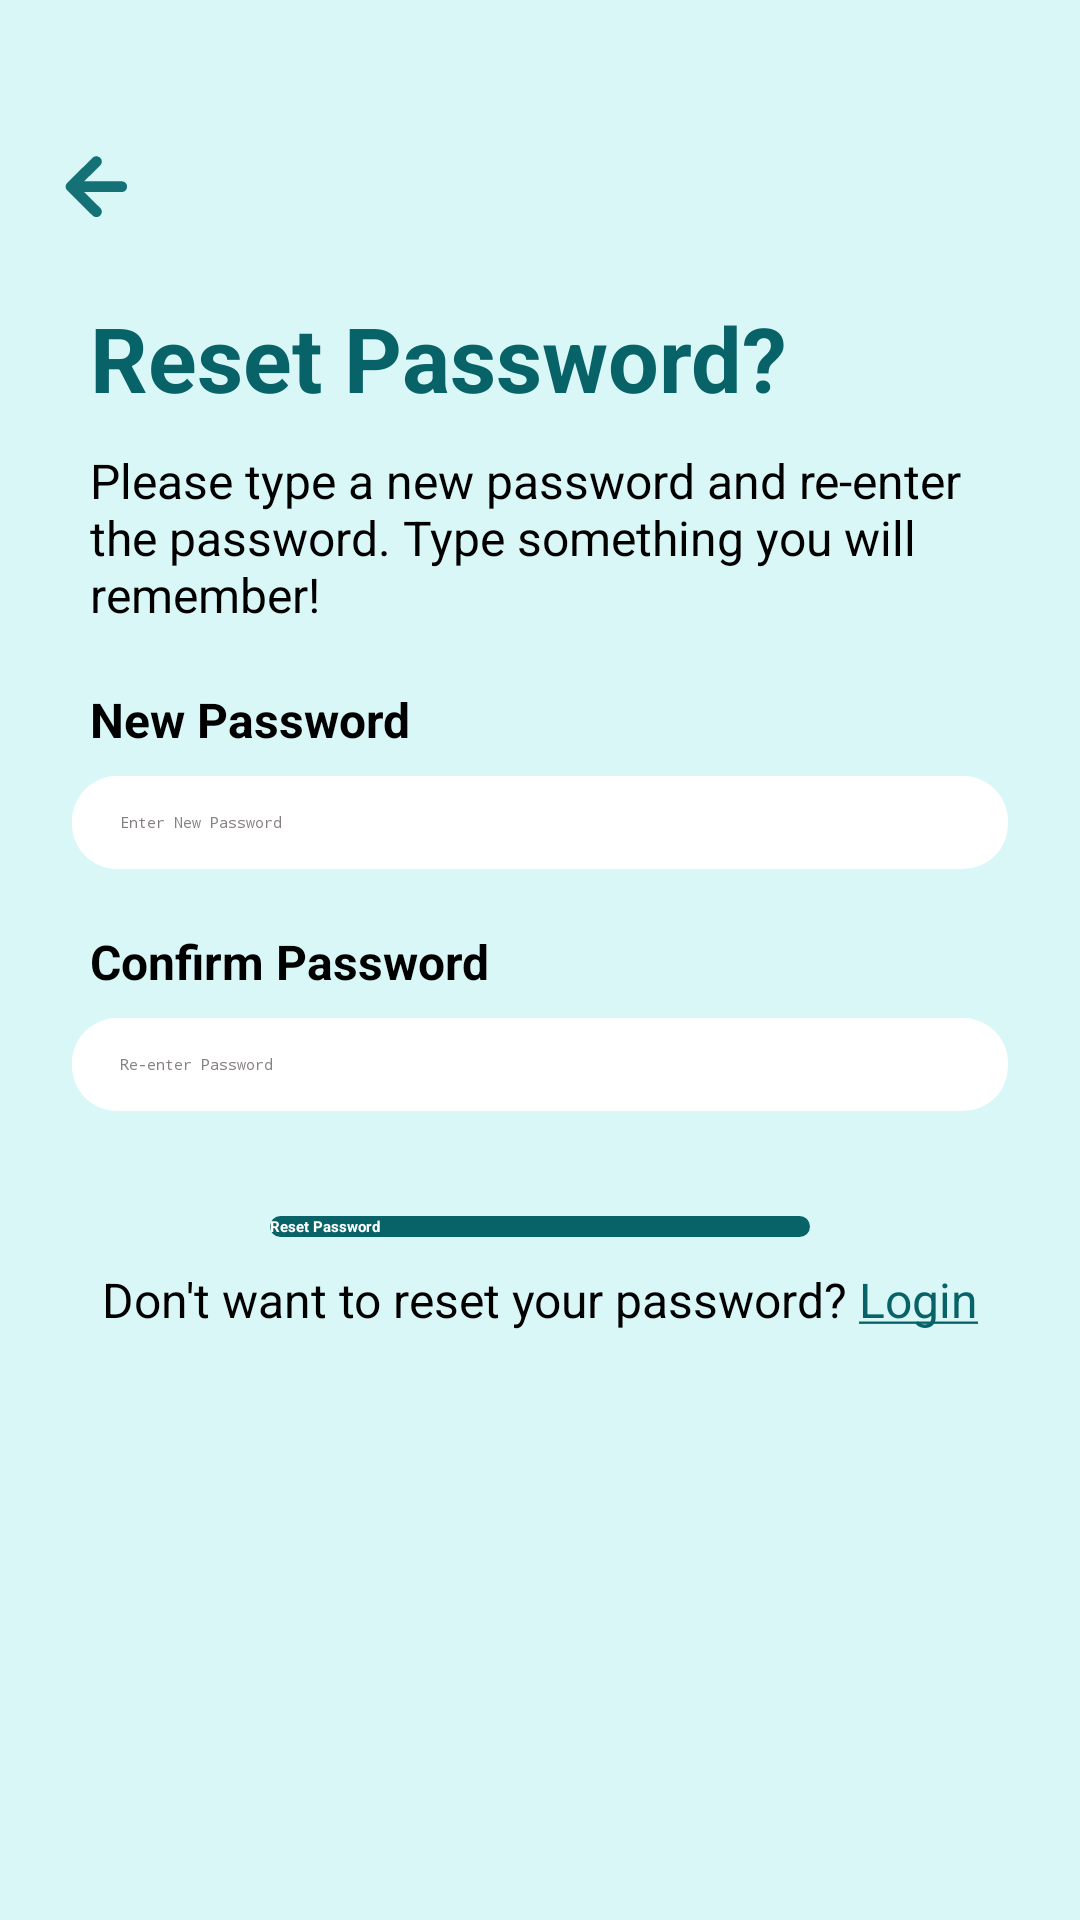

Icons on this 1080px×1920px Android screen, each with its box as (left=x1, top=y1, right=x2, bottom=y2):
arrow back: (left=65, top=156, right=127, bottom=217)
